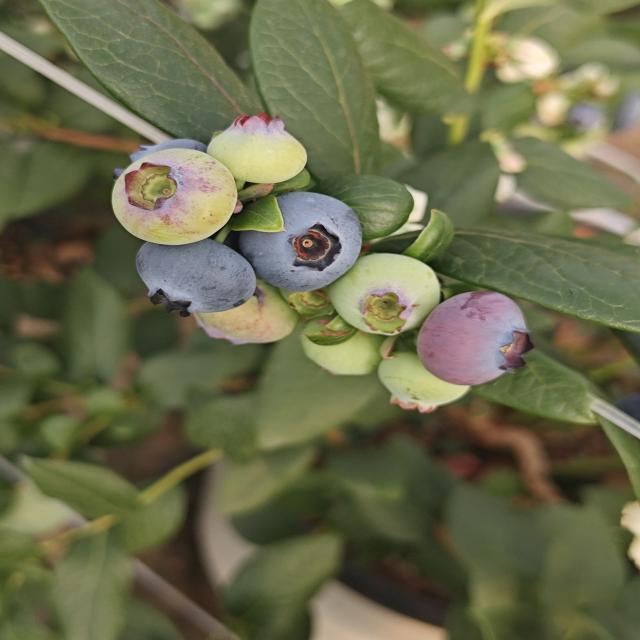ripe: (235, 183, 365, 288), (412, 286, 533, 384), (128, 240, 262, 313)
